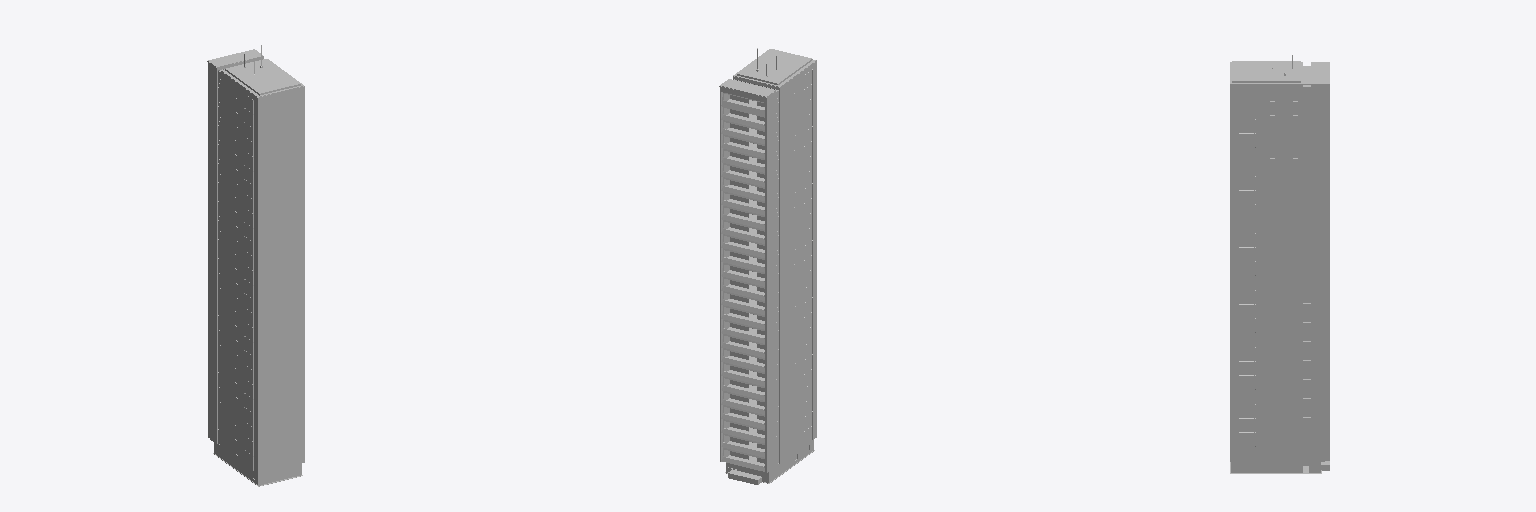
Rendered from Residential Buildings 010.obj.
3 renders of one model, left to right at view 1: azimuth 30°, elevation 25°; view 2: azimuth 150°, elevation 25°; view 3: azimuth 270°, elevation 25°, orthographic.
Parts seen in each view (by area): view 1: Residential_Buildings_010_Cube.005; view 2: Residential_Buildings_010_Cube.005; view 3: Residential_Buildings_010_Cube.005.
Boxes of the visible parts, box(x1,y1,x2,y2) form: Residential_Buildings_010_Cube.005: box(207, 45, 304, 486); Residential_Buildings_010_Cube.005: box(719, 48, 816, 484); Residential_Buildings_010_Cube.005: box(1230, 55, 1329, 473).
Size of the model in its own units: 12.59 by 105 by 23.1.